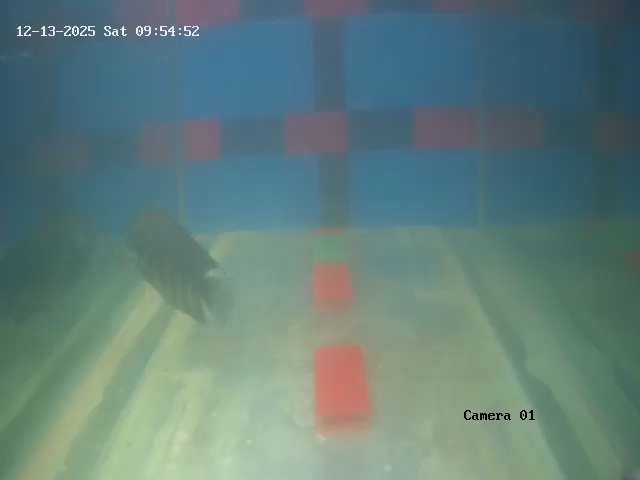fish: (116, 196, 239, 334)
